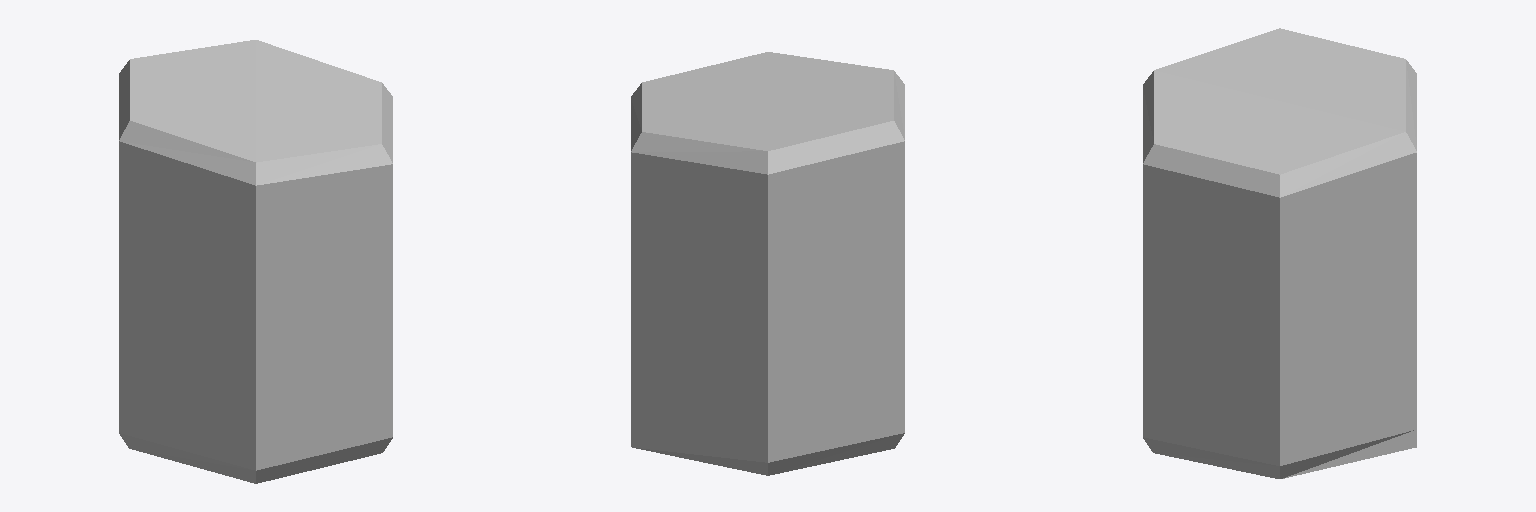
File: Prism_Short.obj
The picture shows the model from 3 angles: view 1: azimuth 30°, elevation 25°; view 2: azimuth 150°, elevation 25°; view 3: azimuth 270°, elevation 25°; orthographic projection.
Visible parts, largest first — view 1: pCylinder85; view 2: pCylinder85; view 3: pCylinder85.
Boxes of the visible parts, box(x1,y1,x2,y2) form: pCylinder85: box(119, 40, 392, 483); pCylinder85: box(631, 52, 904, 475); pCylinder85: box(1143, 28, 1416, 478).
Size of the model in its own units: 0.3807 by 0.44 by 0.3297.